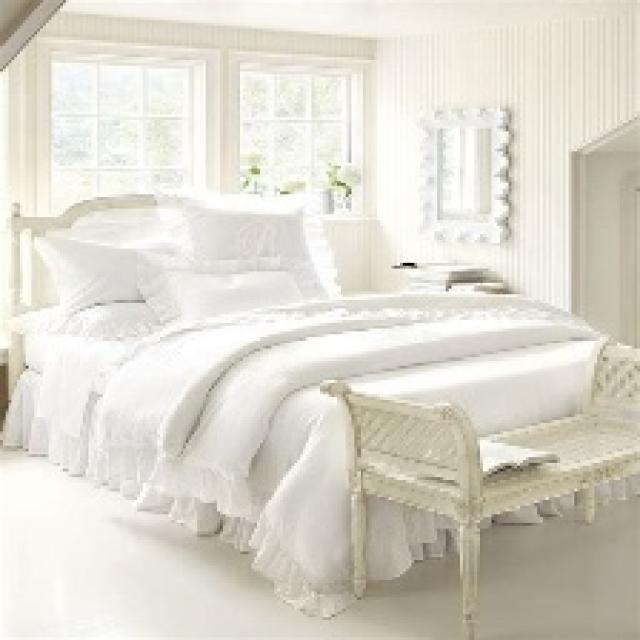Bed: (3, 189, 637, 617)
